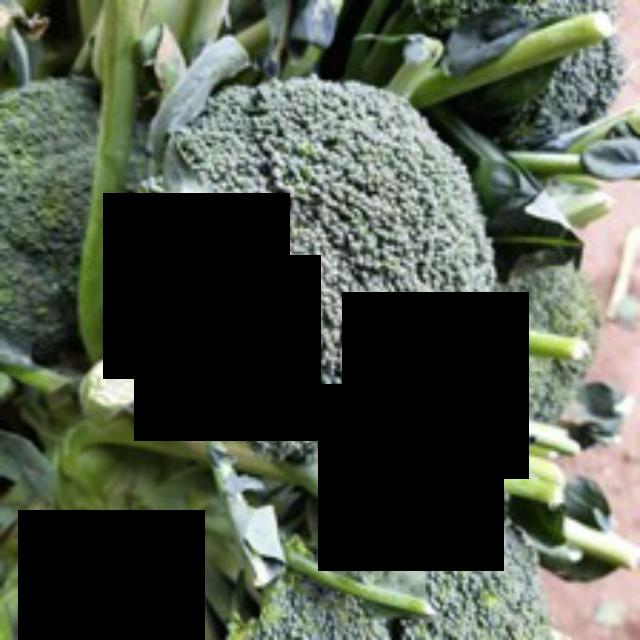broccoli: (135, 64, 514, 487)
